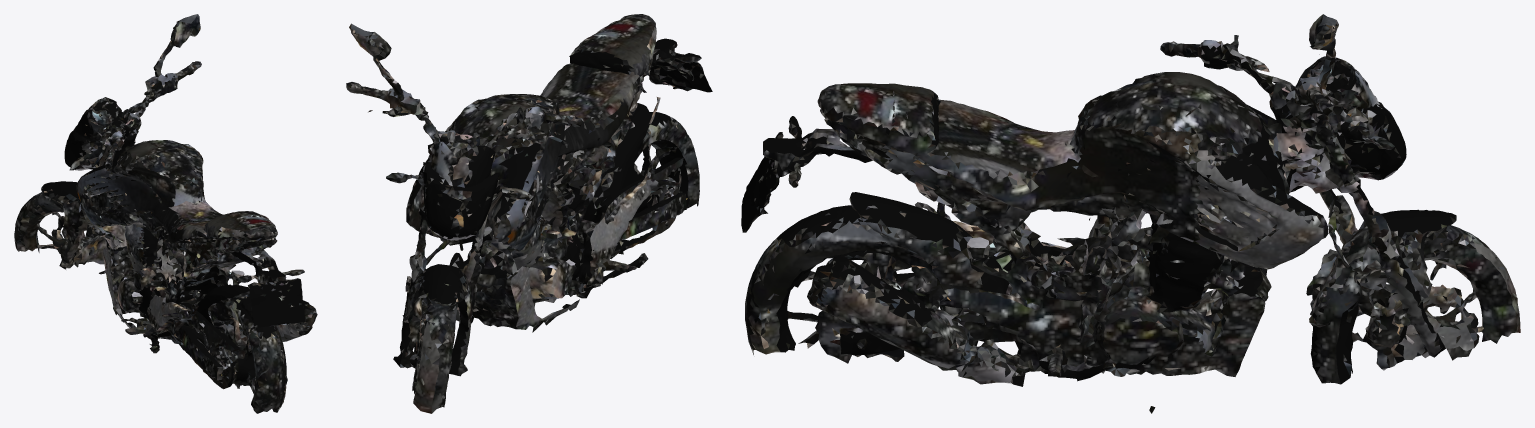
Rendered from motoland.glb.
3 renders of one model, left to right at view 1: azimuth 30°, elevation 25°; view 2: azimuth 150°, elevation 25°; view 3: azimuth 270°, elevation 25°, orthographic. The views are drawn at different scales.
Bounding box in the file's own units: 0.6486 × 1 × 1.72.
2 materials, 2 textured.
